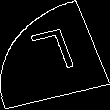L_S: (27, 26, 83, 84)
